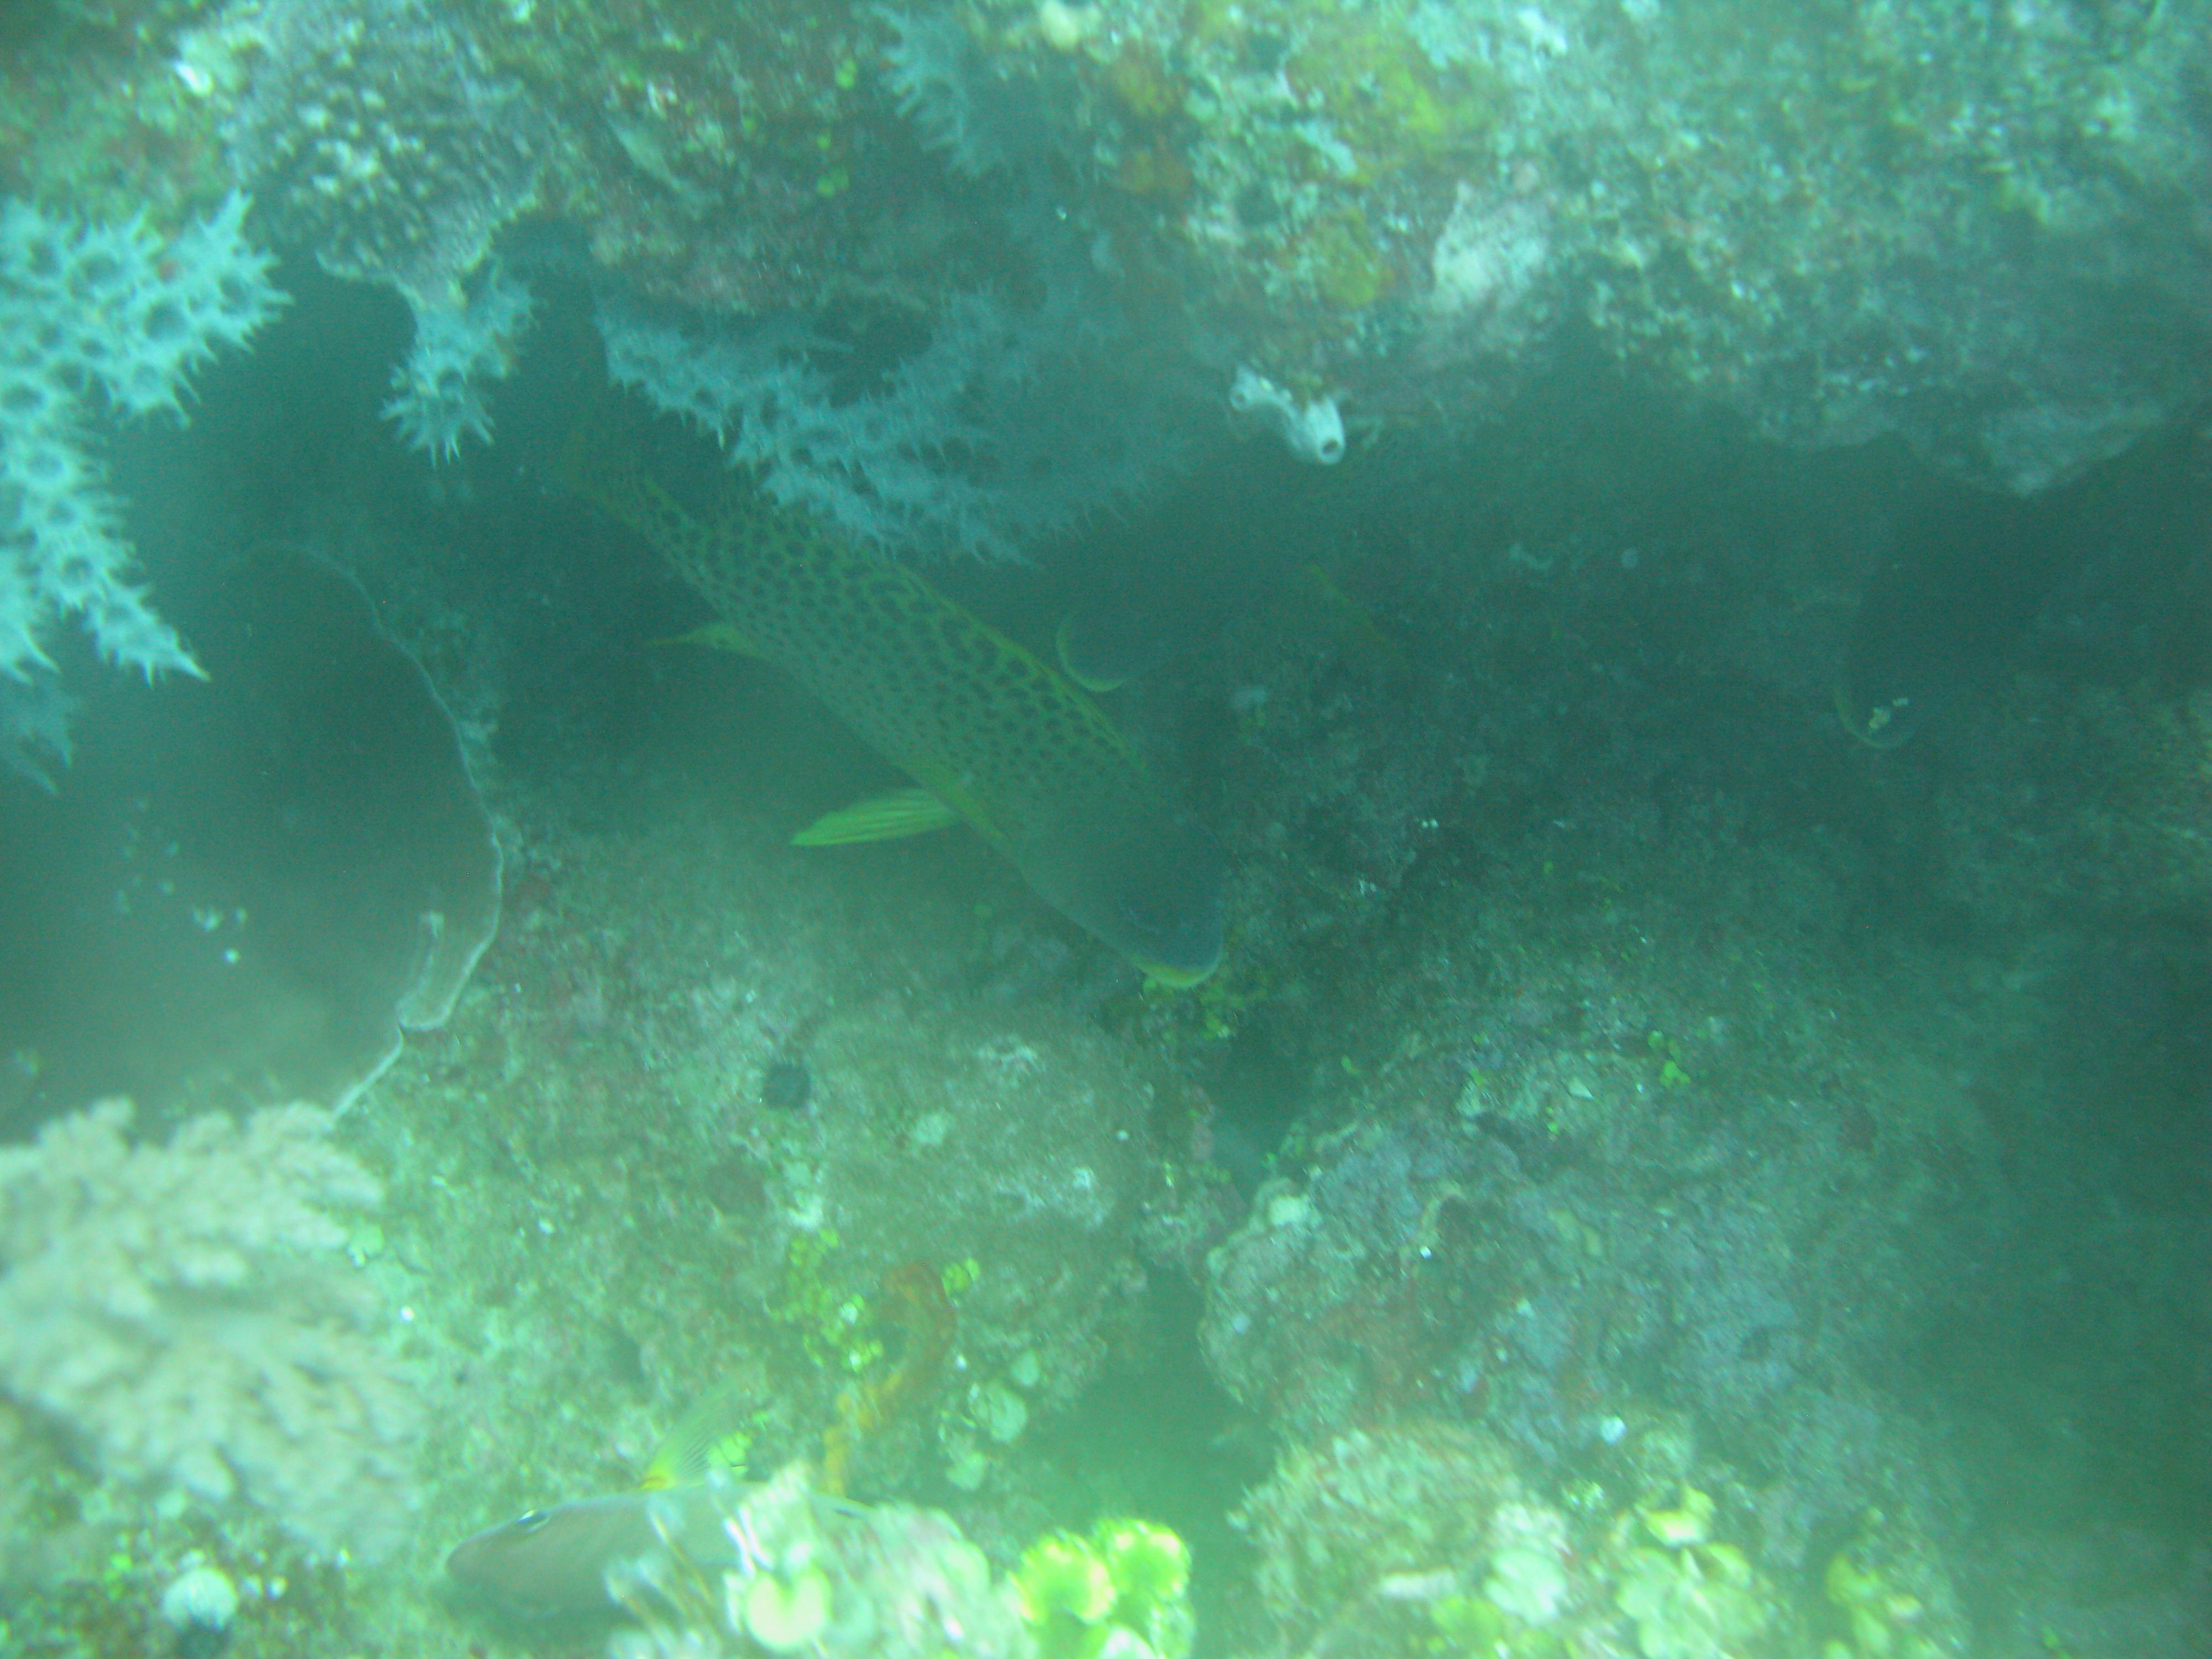Fish: (563, 382, 1270, 1019)
